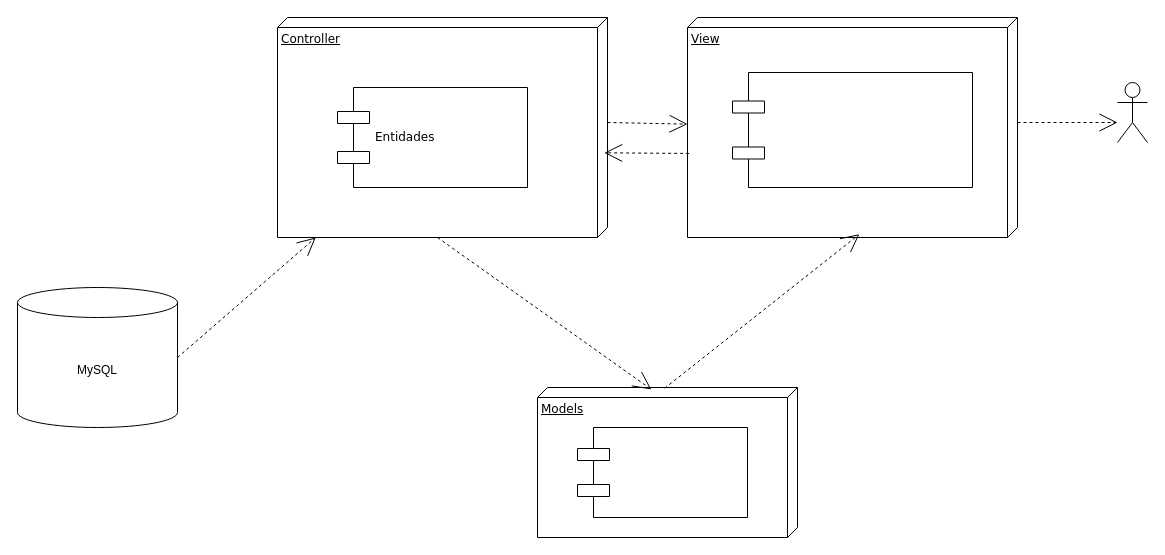
Some shapes in this 1165 by 555 pixel diagram are drawn without their labels. Here are the shapes that lost their labels. From the top down, the centre of each, then its label:
At point (852, 130): "Pantallas".
At point (1132, 112): "Actor".
At point (662, 472): "Modelos".
